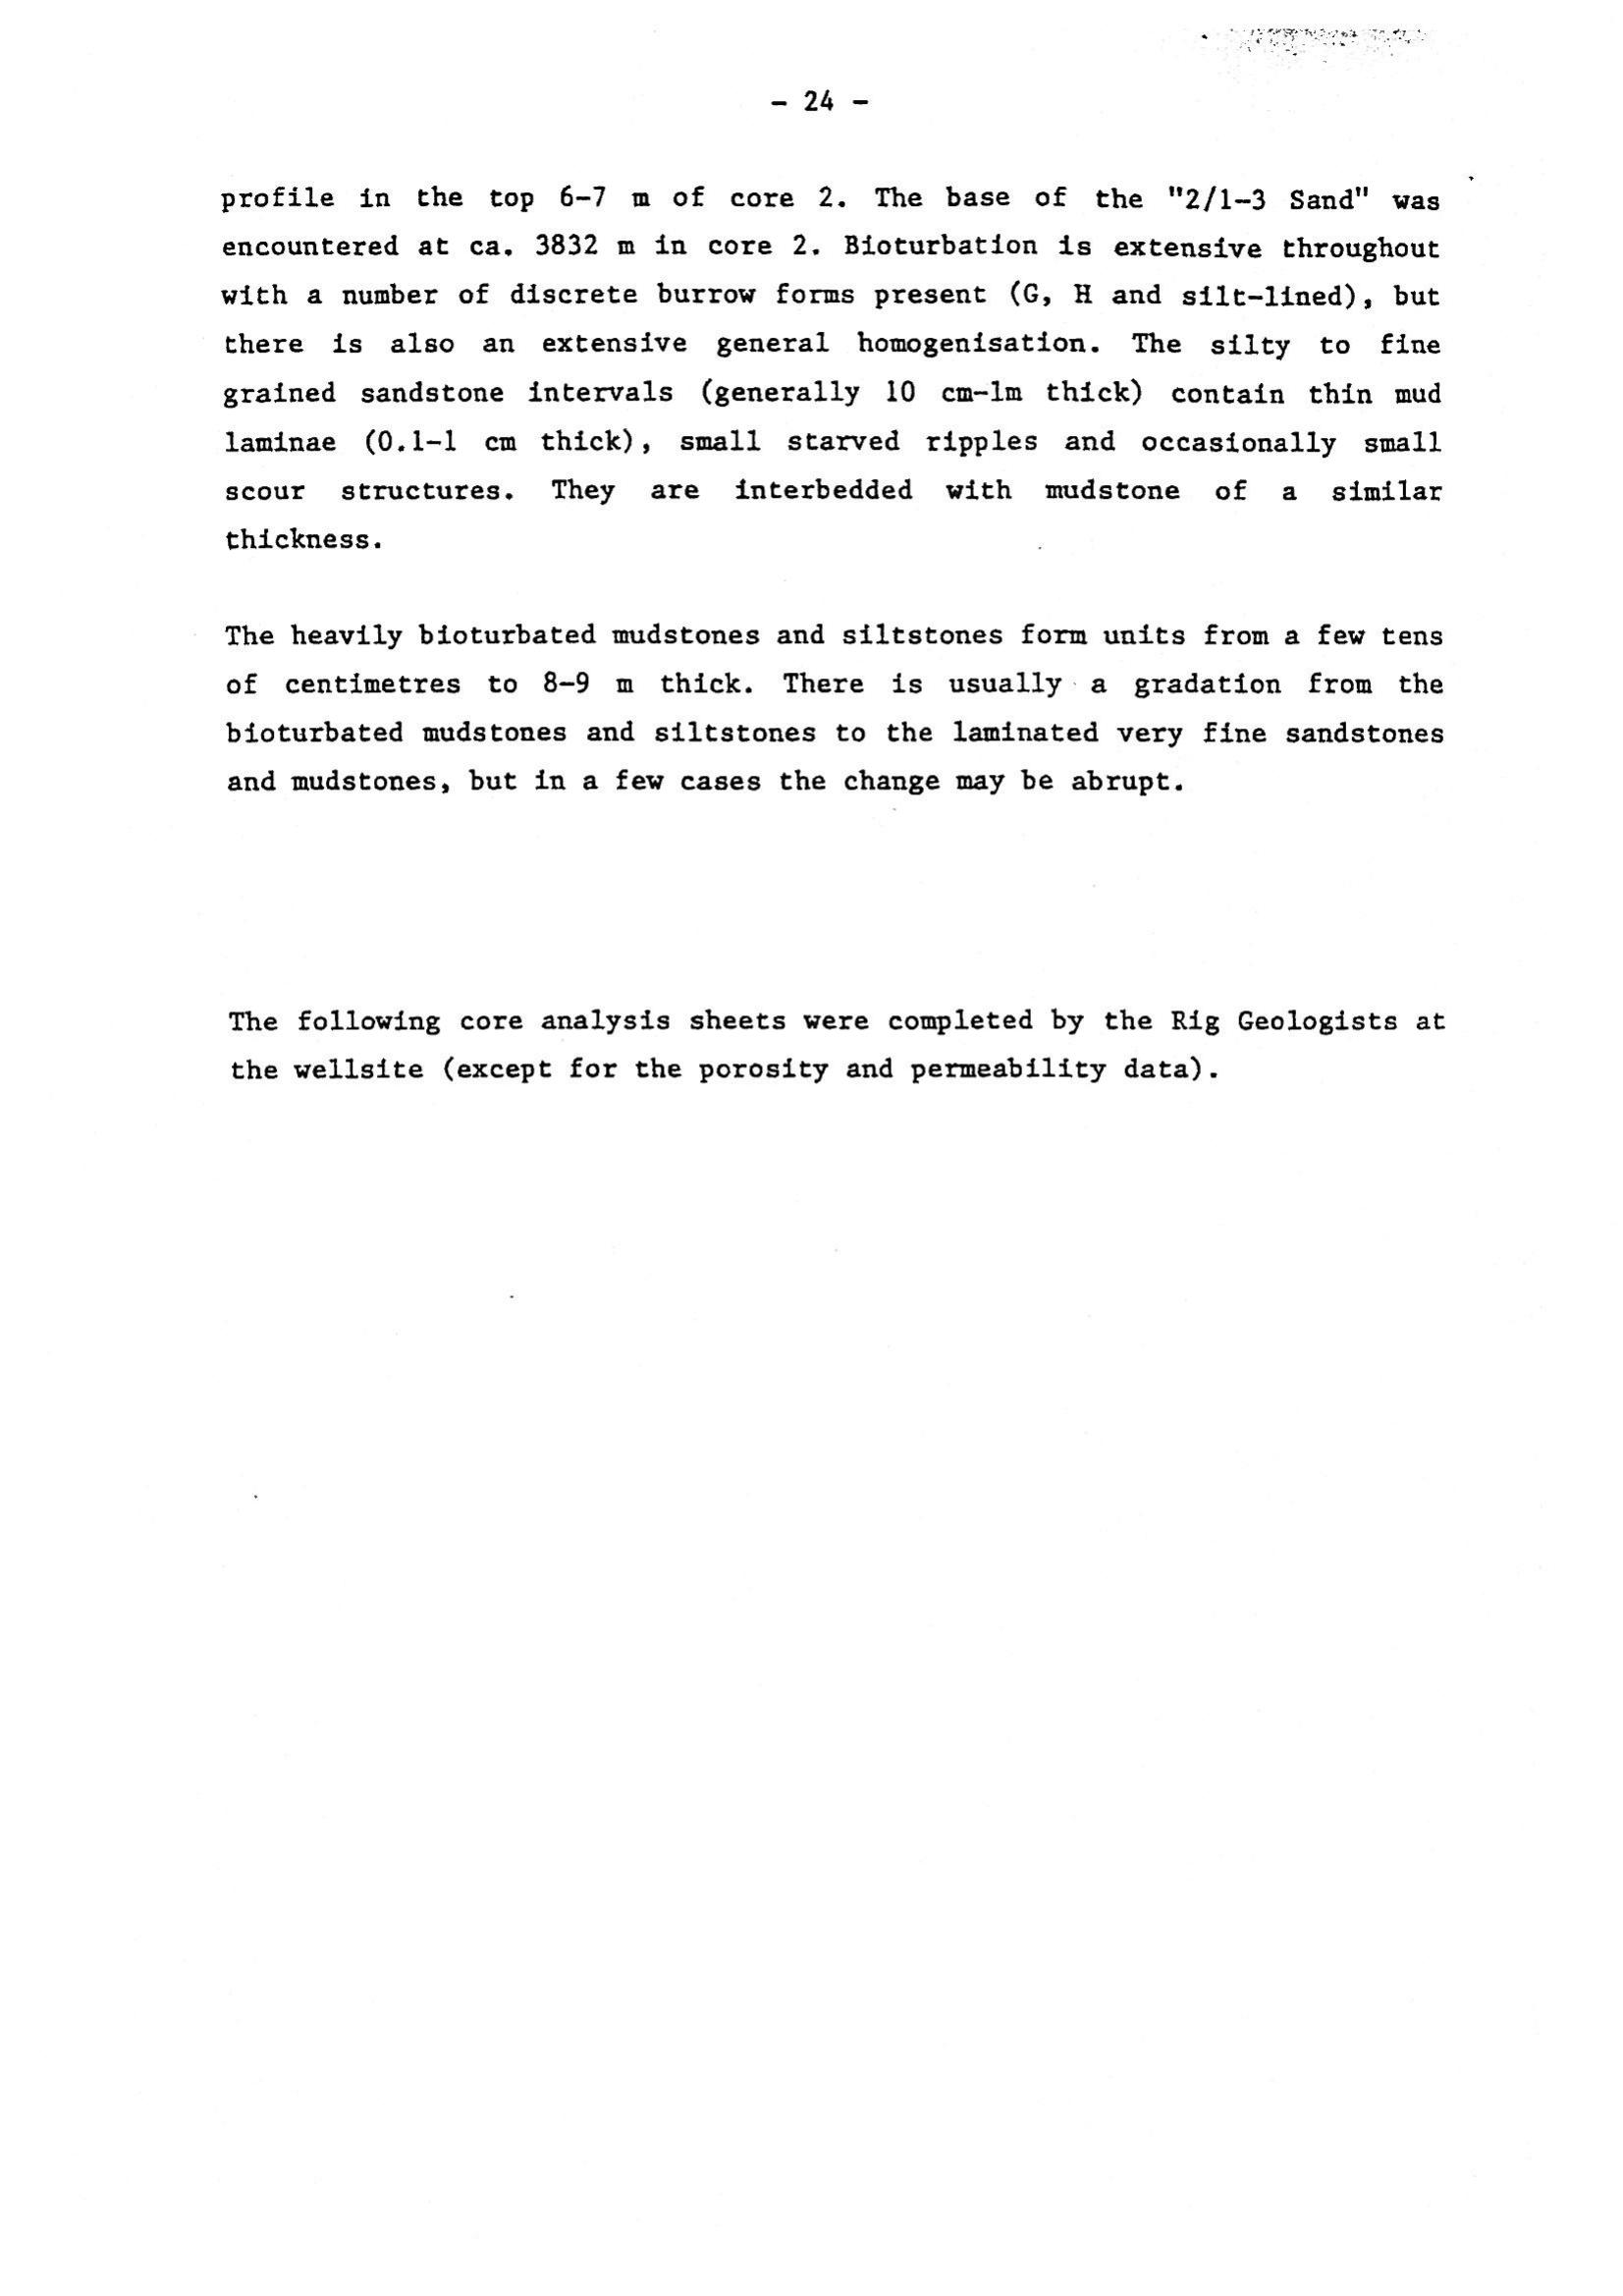text: (197, 146, 1467, 841), (202, 978, 1486, 1114)
